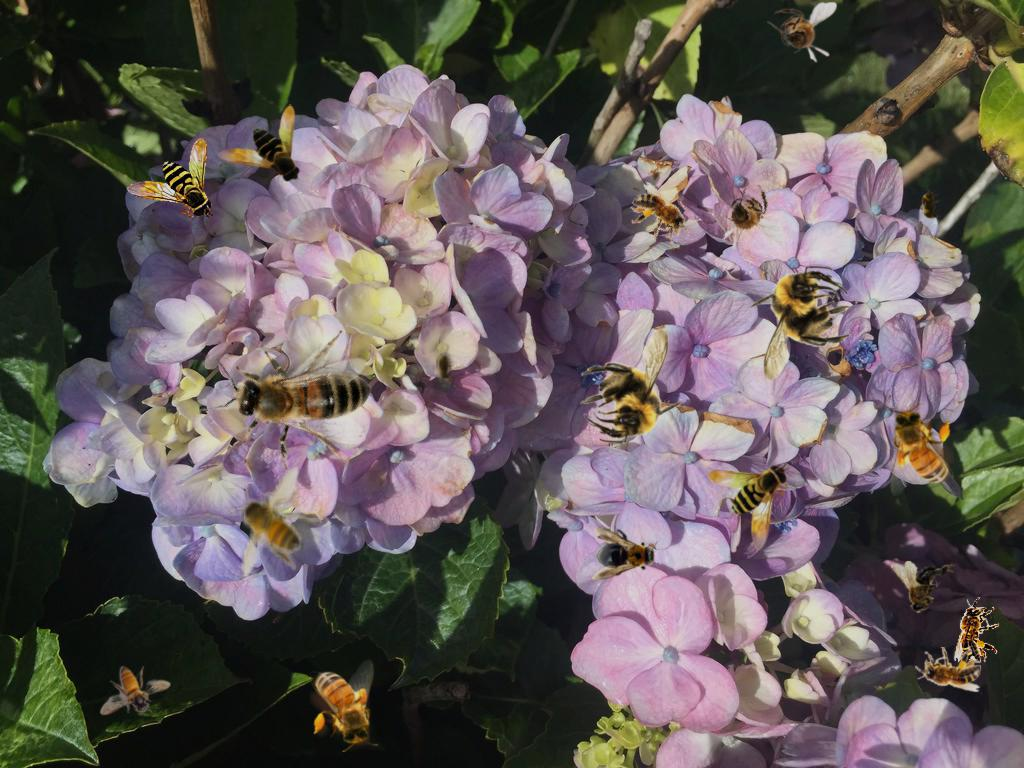Bee: (179, 285, 410, 517), (580, 328, 687, 443), (745, 266, 852, 381), (228, 466, 322, 577), (708, 463, 790, 551), (126, 138, 214, 220), (215, 104, 303, 186), (708, 174, 787, 260), (886, 403, 954, 496), (310, 659, 378, 752), (622, 180, 702, 253), (767, 2, 837, 63), (100, 666, 171, 716), (592, 528, 660, 580), (893, 561, 955, 614), (954, 597, 999, 663), (915, 647, 981, 692), (919, 185, 941, 225), (434, 347, 456, 387)
